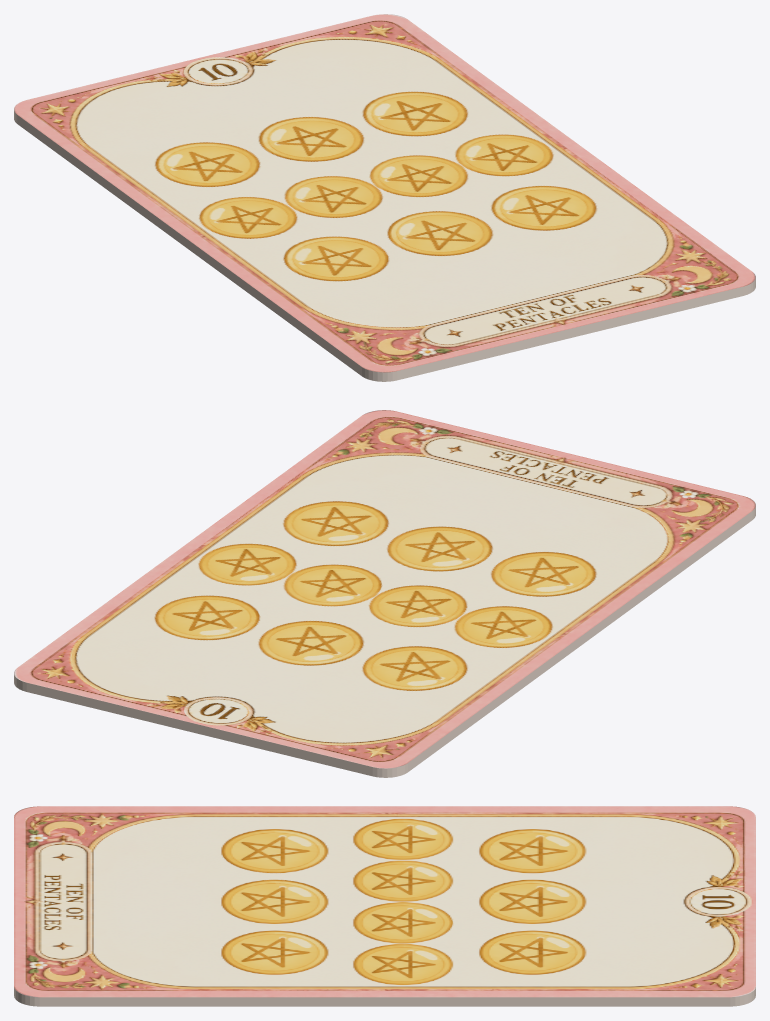
The model's file is ten_of_pentacles.fbx.
The picture shows the model from 3 angles, top to bottom: view 1: azimuth 30°, elevation 25°; view 2: azimuth 150°, elevation 25°; view 3: azimuth 270°, elevation 25°; orthographic projection.
Parts seen in each view (by area): view 1: ten_of_pentacles; view 2: ten_of_pentacles; view 3: ten_of_pentacles.
Boxes of the visible parts, bbox=[...] form: ten_of_pentacles: bbox=[14, 14, 755, 381]; ten_of_pentacles: bbox=[14, 410, 755, 777]; ten_of_pentacles: bbox=[14, 806, 755, 1006].
Size of the model in its own units: 7 by 0.16 by 11.5.
3 materials, 2 textured.
